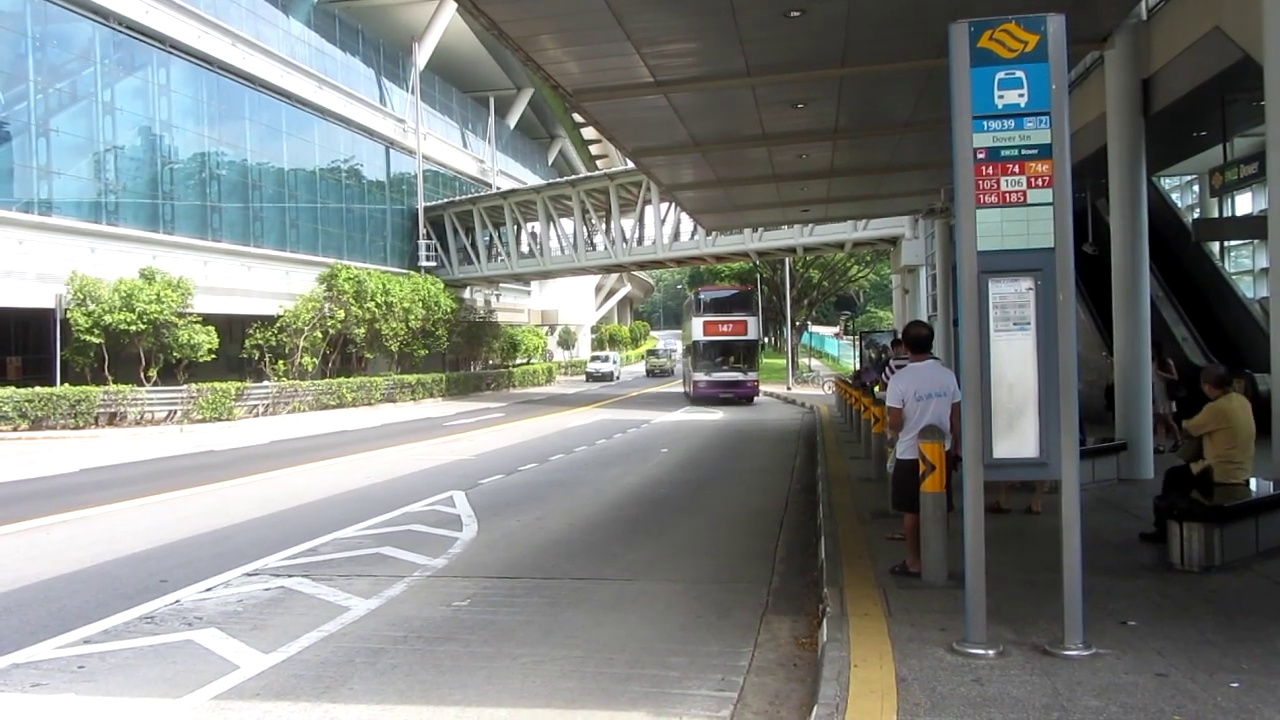bus panel: (702, 319, 749, 337)
